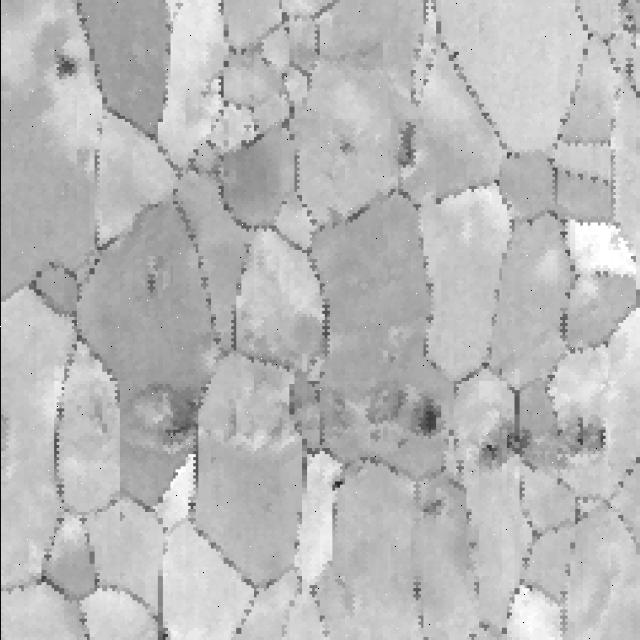good_void: (137, 373, 202, 469), (474, 420, 540, 475), (548, 416, 611, 466), (367, 384, 412, 440), (409, 387, 446, 447), (394, 118, 425, 170), (54, 47, 81, 90), (331, 126, 360, 161), (140, 266, 160, 306), (418, 493, 446, 521), (324, 478, 350, 497)
